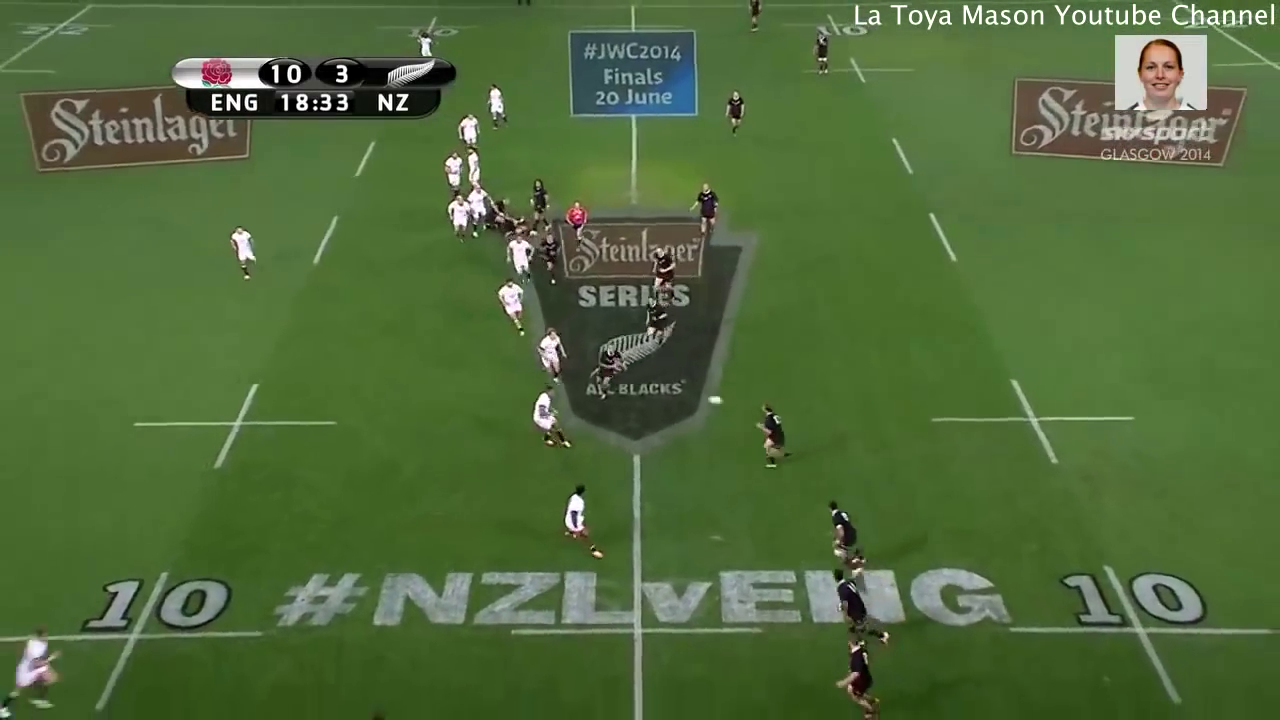10_metre: (998, 558, 1280, 711), (1, 564, 273, 720), (916, 372, 1150, 471), (125, 377, 341, 480), (804, 53, 921, 86), (776, 8, 885, 43), (373, 13, 483, 47)
ball: (702, 388, 726, 412)
player: (1, 621, 62, 720), (826, 565, 893, 650), (832, 635, 887, 720), (820, 500, 869, 582), (557, 480, 605, 561), (525, 380, 573, 454), (750, 400, 797, 473), (226, 221, 267, 288), (491, 276, 531, 340), (591, 338, 628, 404), (531, 324, 569, 386), (685, 180, 723, 241), (502, 227, 537, 289), (646, 244, 678, 304), (537, 230, 570, 287), (462, 180, 490, 244), (524, 176, 554, 233), (638, 292, 669, 347), (720, 88, 751, 141), (482, 81, 511, 136), (443, 186, 469, 246), (453, 108, 485, 156), (459, 142, 489, 192), (562, 197, 589, 252), (477, 191, 513, 226), (440, 148, 465, 196), (810, 29, 831, 80), (413, 29, 439, 68), (744, 1, 765, 34)
